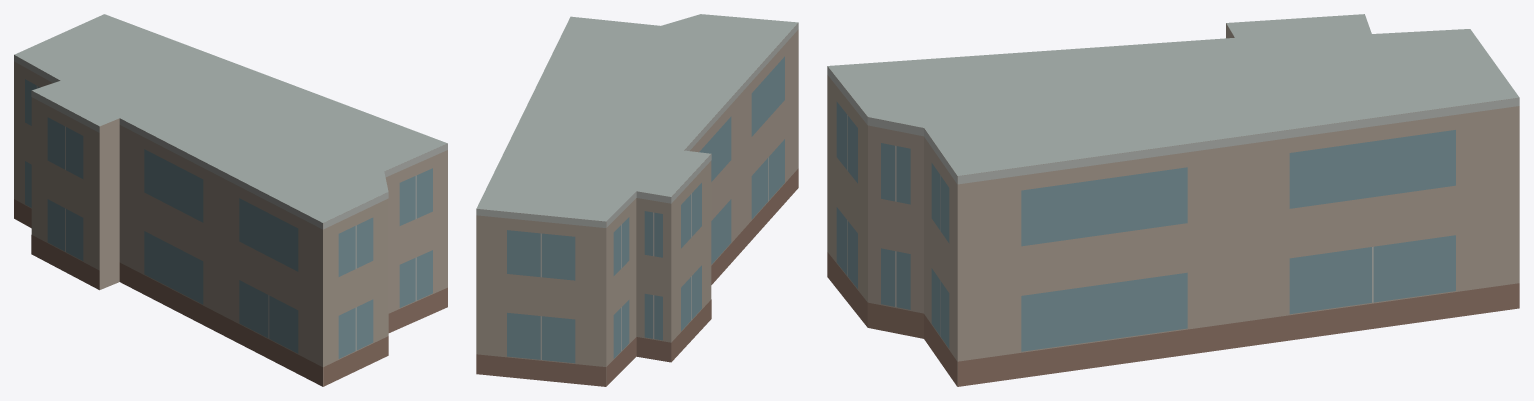
The model's file is survey-upis-32820155.glb.
The picture shows the model from 3 angles, left to right: view 1: azimuth 30°, elevation 25°; view 2: azimuth 150°, elevation 25°; view 3: azimuth 270°, elevation 25°; orthographic projection. The views are drawn at different scales.
Visible parts, largest first — view 1: survey-upis-32820155.tmp; view 2: survey-upis-32820155.tmp; view 3: survey-upis-32820155.tmp.
Part boxes in pixels (x1,y1,x2,y2): survey-upis-32820155.tmp: [14, 14, 447, 386]; survey-upis-32820155.tmp: [476, 14, 798, 386]; survey-upis-32820155.tmp: [827, 14, 1519, 386].
Size of the model in its own units: 10.07 by 6.1 by 18.17.
